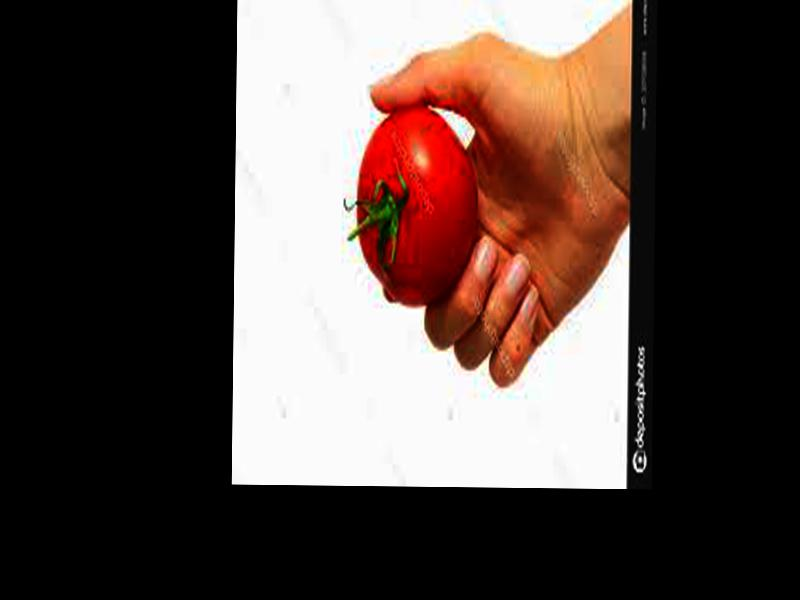Tomato: (354, 106, 479, 303)
